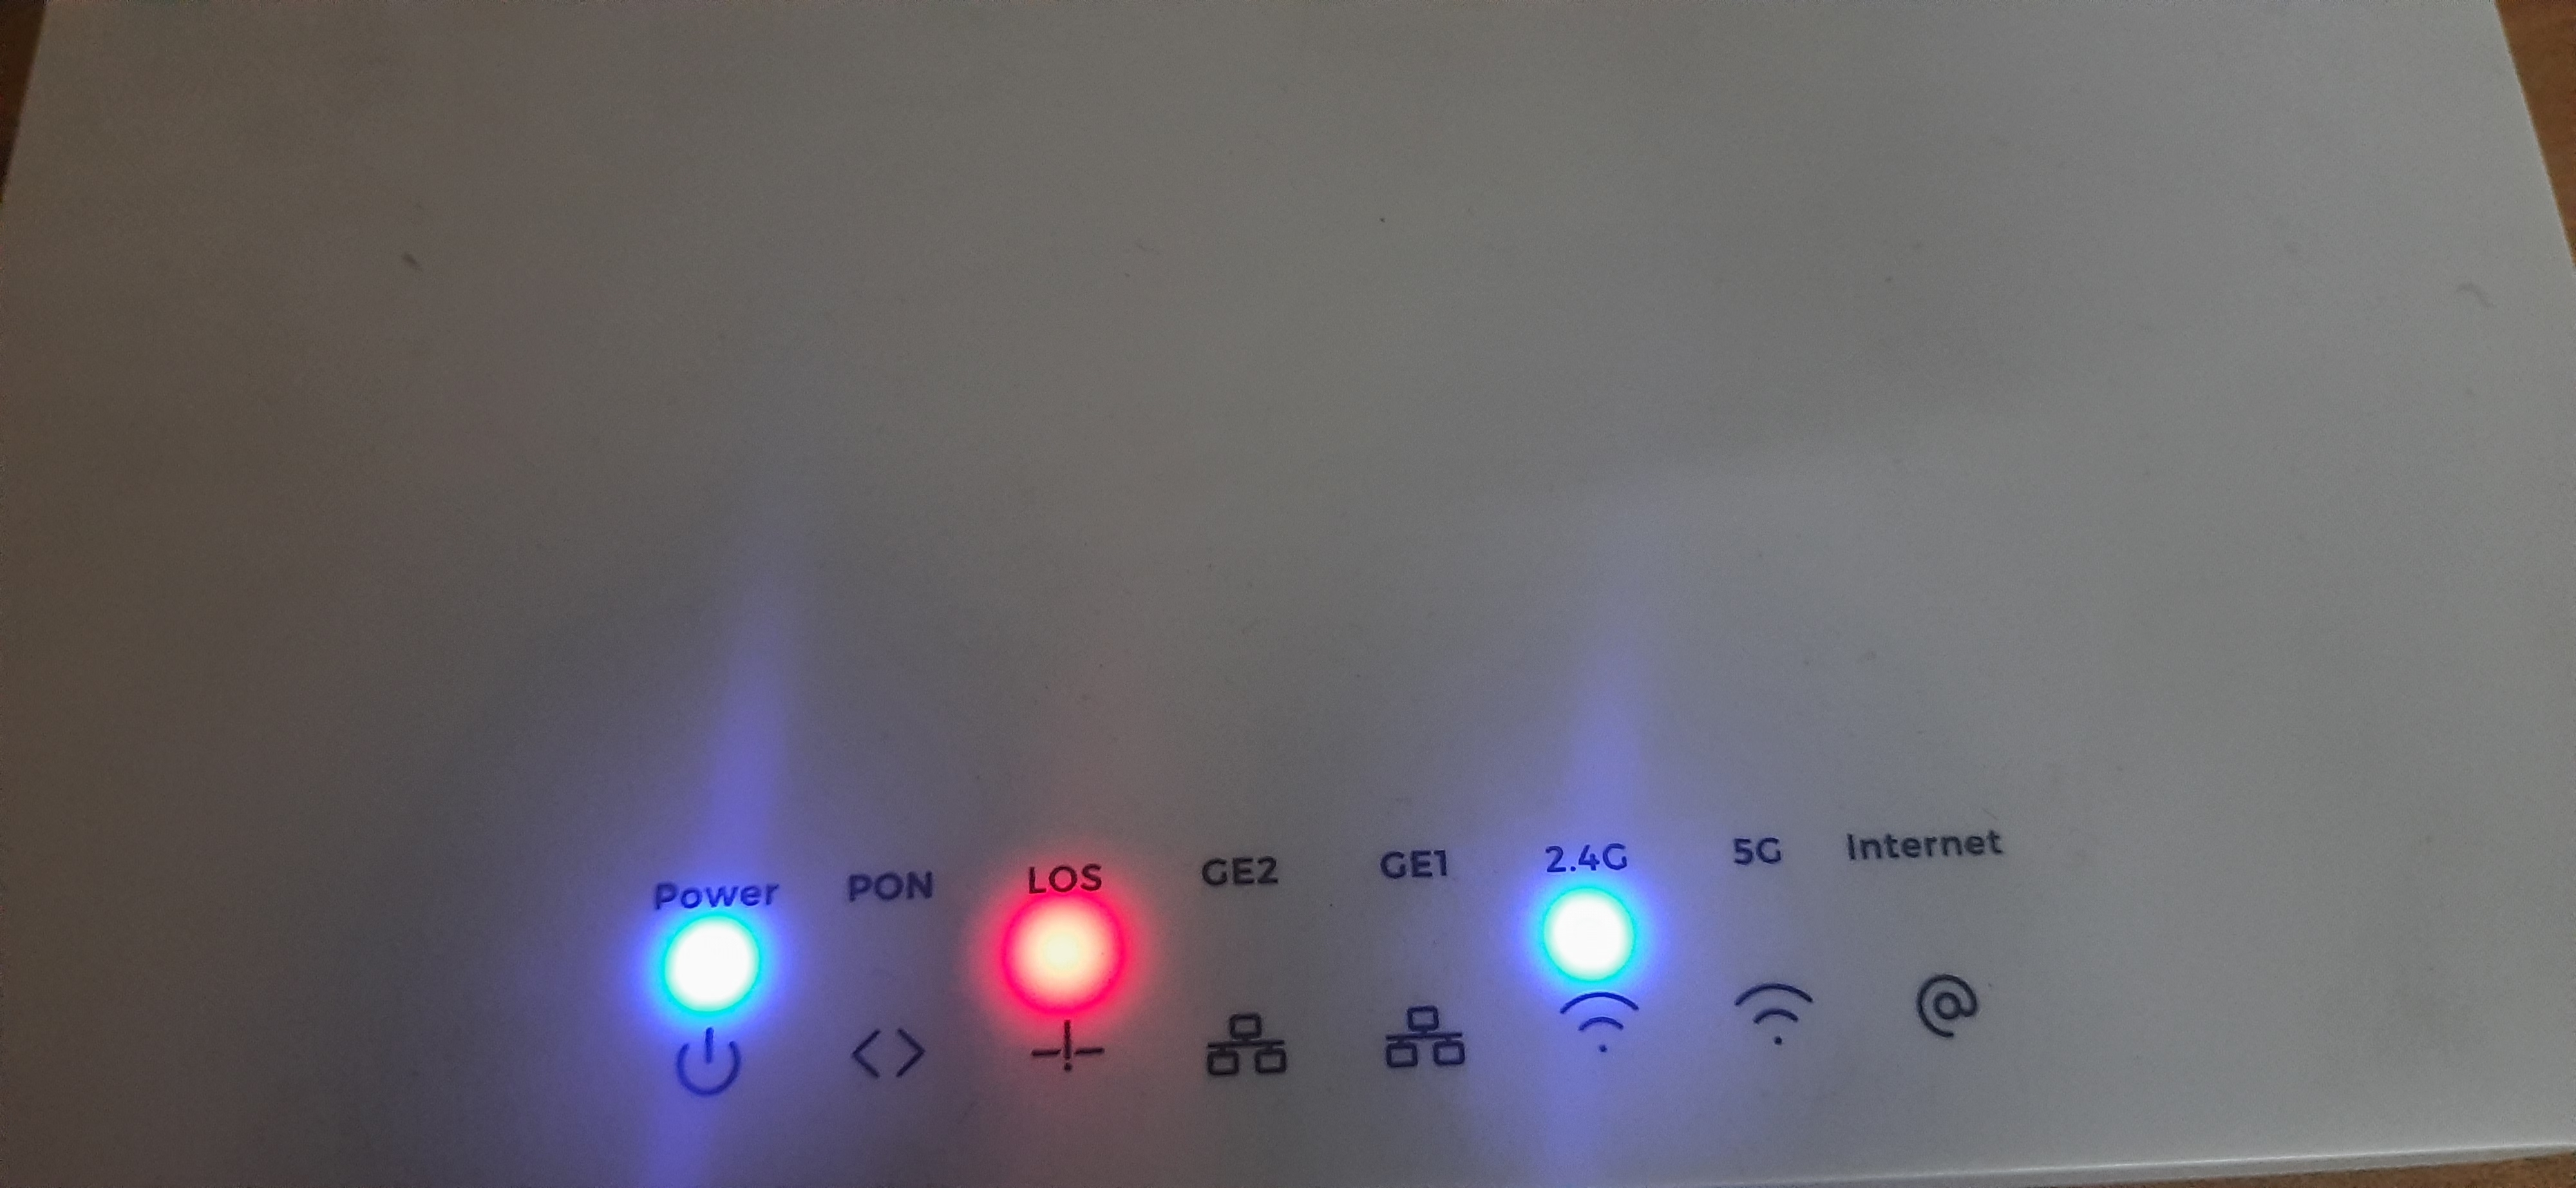LOSConnectionIssue: (948, 833, 1183, 1127)
